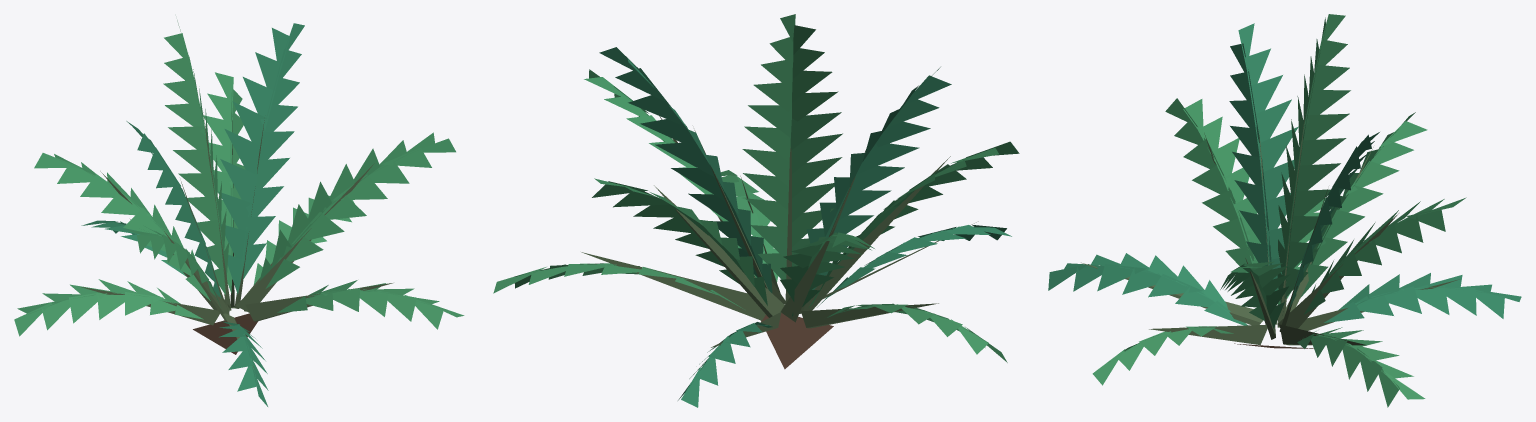
Rendered from pf_fern.glb.
The picture shows the model from 3 angles, left to right: view 1: azimuth 30°, elevation 25°; view 2: azimuth 150°, elevation 25°; view 3: azimuth 270°, elevation 25°; orthographic projection. The views are drawn at different scales.
Visible parts, largest first — view 1: body_nh, body__far; view 2: body_nh, body__far; view 3: body_nh, body__far.
Boxes of the visible parts, x1,y1,x2,y2 form: body_nh: (14,20,464,406); body__far: (80,76,392,367); body_nh: (493,14,1019,407); body__far: (581,95,978,369); body_nh: (1048,14,1521,407); body__far: (1081,96,1398,348).
Bounding box in the file's own units: 12.16 × 9.04 × 11.76.
